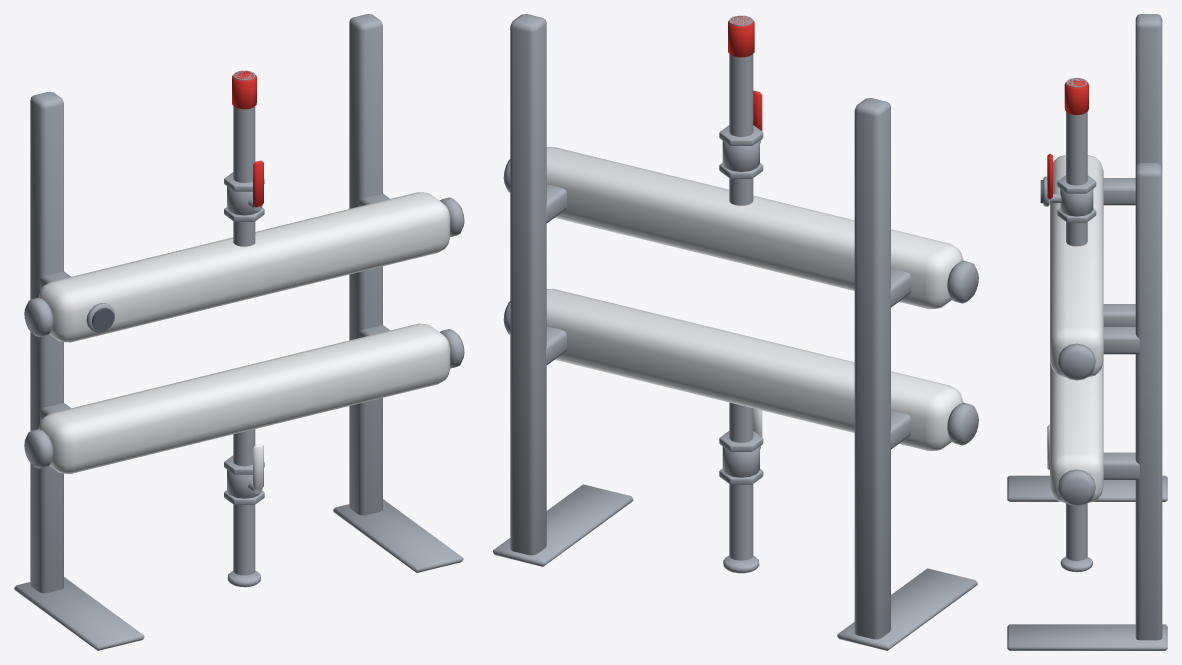
The model's file is heizung.verteiler.n1.glb.
3 renders of one model, left to right at view 1: azimuth 30°, elevation 25°; view 2: azimuth 150°, elevation 25°; view 3: azimuth 270°, elevation 25°, orthographic. The views are drawn at different scales.
Parts seen in each view (by area): view 1: heizung.verteiler.n1; view 2: heizung.verteiler.n1; view 3: heizung.verteiler.n1.
Part boxes in pixels (bbox=[...]): heizung.verteiler.n1: bbox=[14, 14, 464, 650]; heizung.verteiler.n1: bbox=[493, 14, 978, 650]; heizung.verteiler.n1: bbox=[1007, 14, 1167, 650].
Bounding box in the file's own units: 0.88 × 1 × 0.3.
